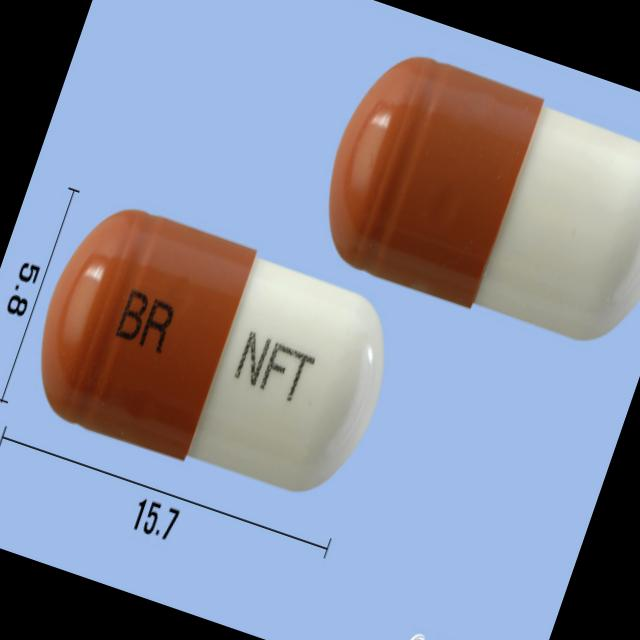Boryung Nitrofurantoin: (11, 186, 415, 522)
